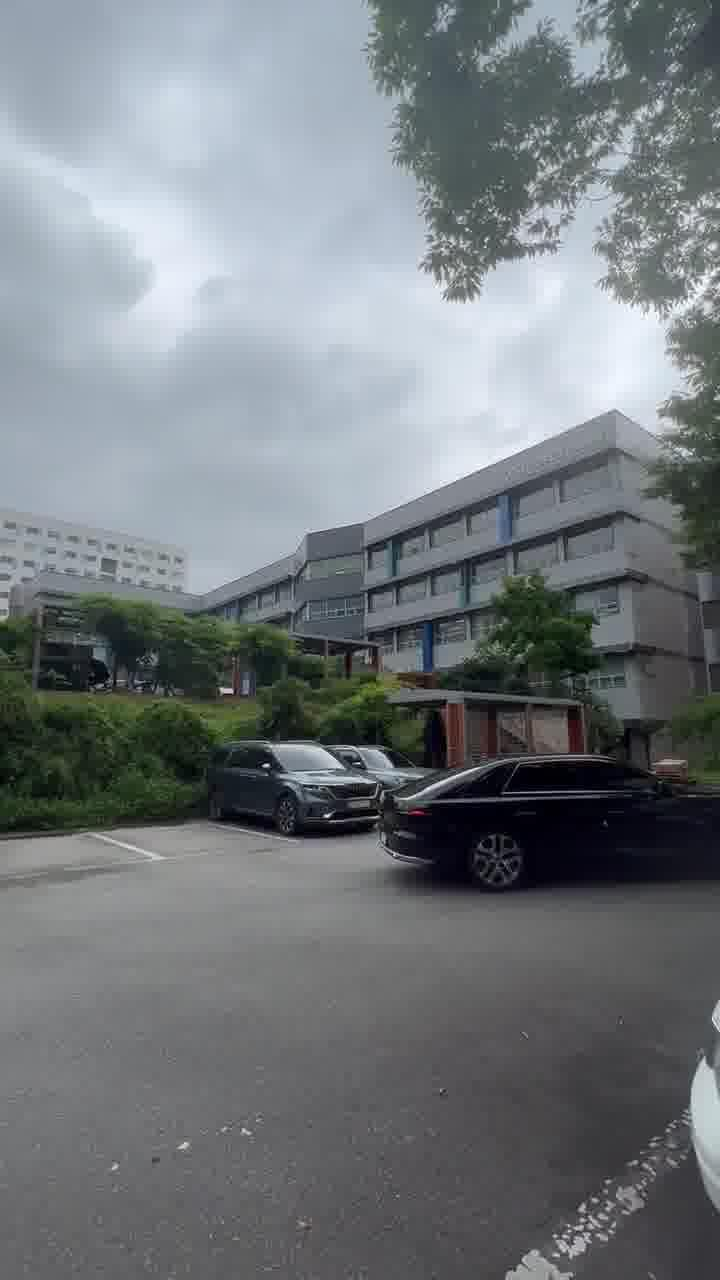building: (288, 430, 662, 650)
